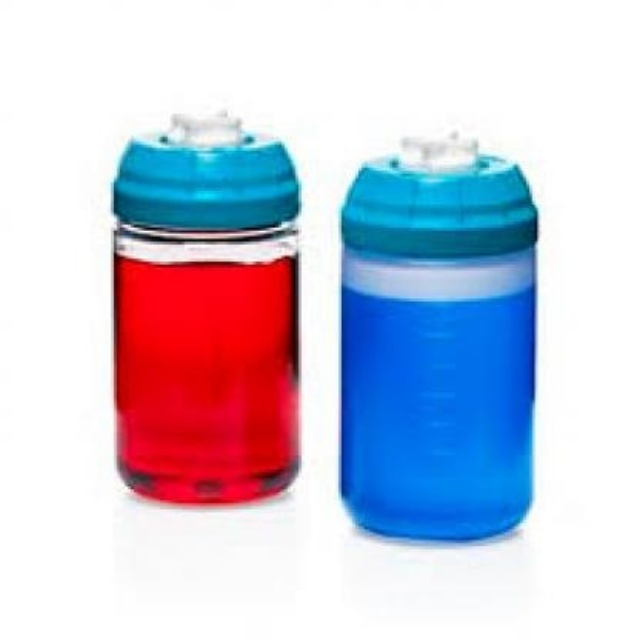trash: (342, 135, 535, 538), (114, 114, 297, 502)
